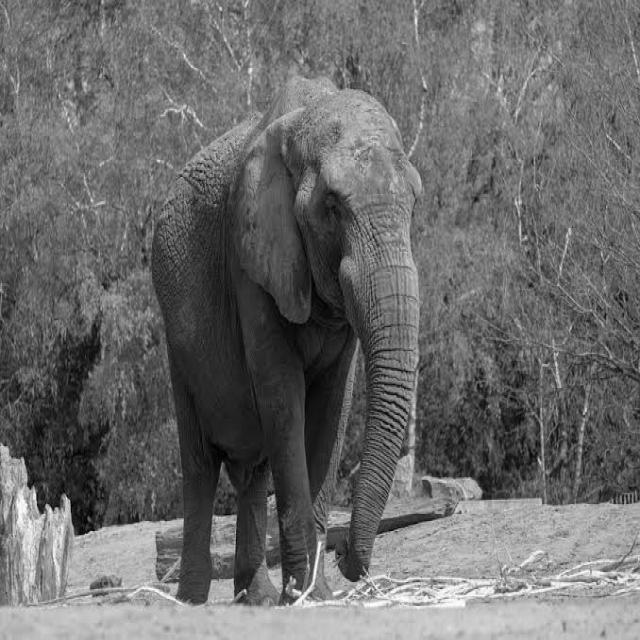Elephant: (149, 72, 423, 608)
